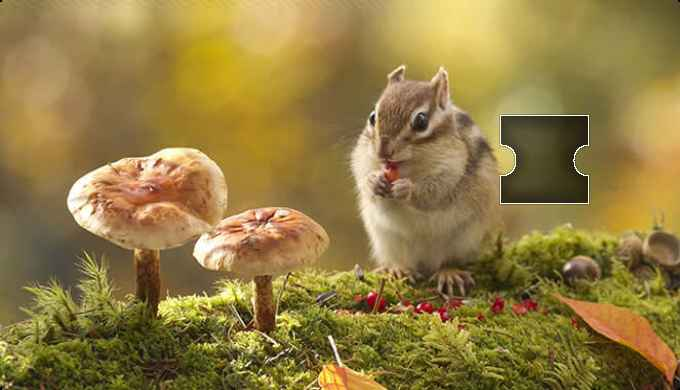gap: (501, 113, 589, 203)
